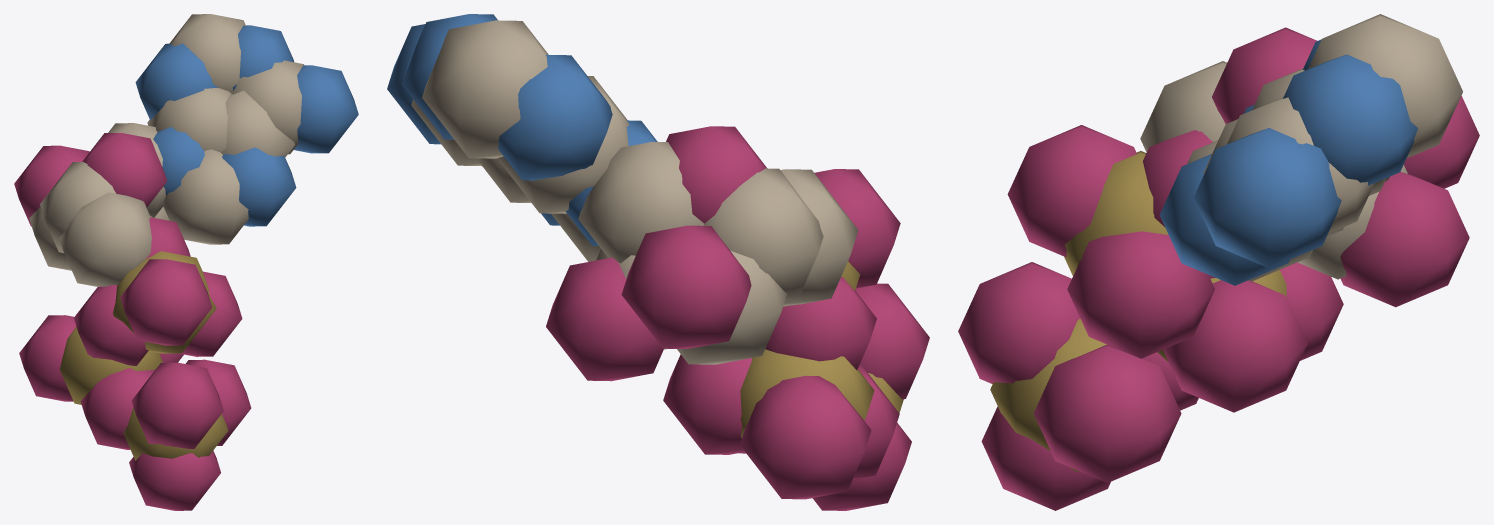
The model's file is 1hck-1.glb.
3 views of the same model, side by side, from view 1: azimuth 30°, elevation 25°; view 2: azimuth 150°, elevation 25°; view 3: azimuth 270°, elevation 25° (orthographic). The views are drawn at different scales.
Visible parts, largest first — view 1: Test Export; view 2: Test Export; view 3: Test Export.
Part boxes in pixels (x1,y1,x2,y2): Test Export: (14, 14, 358, 510); Test Export: (387, 14, 929, 510); Test Export: (958, 14, 1479, 510).
Bounding box in the file's own units: 12.12 × 13.55 × 10.72.
